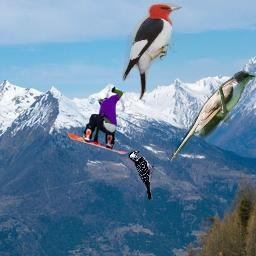Cuckoo: (169, 71, 255, 162)
Woodpecker: (122, 3, 182, 100), (128, 149, 154, 200)
